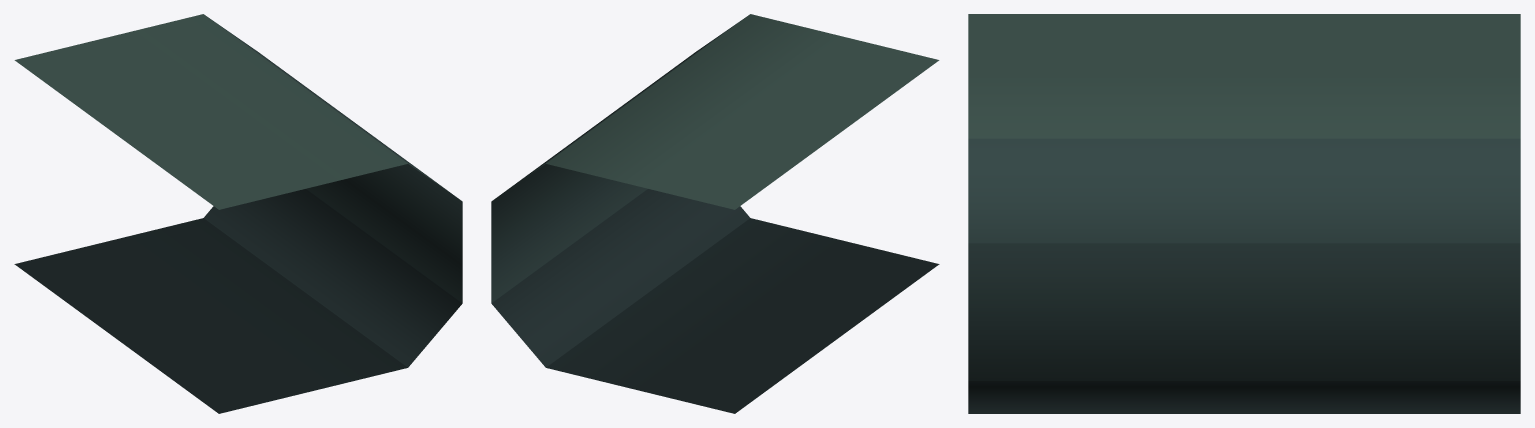
The model's file is grass_top_1x1_tile_right.fbx.
3 renders of one model, left to right at view 1: azimuth 30°, elevation 25°; view 2: azimuth 150°, elevation 25°; view 3: azimuth 270°, elevation 25°, orthographic. The views are drawn at different scales.
Parts seen in each view (by area): view 1: grass_top_1x1_tile_right; view 2: grass_top_1x1_tile_right; view 3: grass_top_1x1_tile_right.
Part boxes in pixels (box(x1,y1,x2,y2)): grass_top_1x1_tile_right: box(14, 14, 462, 413); grass_top_1x1_tile_right: box(491, 14, 939, 413); grass_top_1x1_tile_right: box(968, 14, 1520, 413).
Bounding box in the file's own units: 68.72 × 55 × 100.
